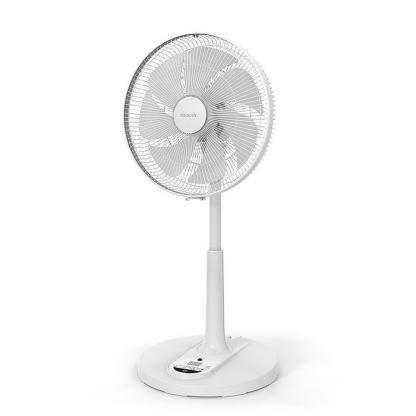fan: (98, 22, 278, 204)
